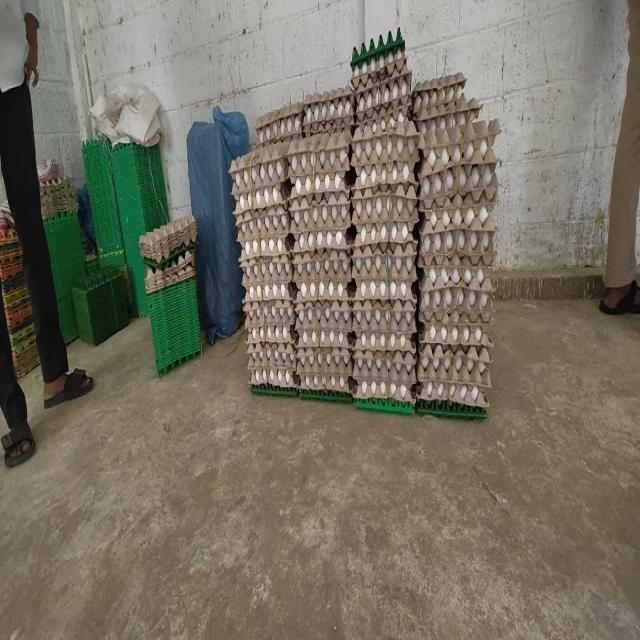egg_tray: (230, 144, 296, 386), (290, 134, 352, 391), (418, 195, 494, 332), (418, 196, 494, 320), (288, 132, 350, 251), (352, 187, 417, 298), (420, 120, 499, 209), (418, 311, 492, 405), (353, 299, 416, 400), (353, 301, 416, 400), (352, 209, 417, 299), (418, 195, 494, 267), (352, 222, 417, 306), (294, 250, 351, 345), (419, 194, 494, 263), (420, 139, 496, 207), (352, 32, 410, 121), (296, 300, 352, 391), (296, 301, 352, 390), (288, 132, 350, 208), (243, 298, 296, 386), (244, 300, 297, 385), (241, 260, 295, 343), (352, 279, 416, 349), (419, 120, 500, 175), (352, 123, 419, 189), (234, 185, 290, 263), (230, 143, 289, 217), (419, 264, 494, 321), (243, 262, 295, 343), (290, 191, 350, 261), (234, 194, 292, 265), (291, 194, 352, 261), (412, 73, 480, 133), (239, 236, 294, 308), (352, 301, 416, 361), (239, 235, 294, 301), (353, 345, 416, 402), (287, 131, 352, 183), (356, 60, 411, 121), (229, 143, 288, 199), (417, 344, 490, 388), (417, 365, 490, 407), (293, 250, 352, 301), (352, 121, 418, 166), (239, 246, 293, 301), (294, 252, 350, 305), (352, 36, 406, 90), (420, 195, 494, 234), (353, 343, 416, 387), (352, 185, 418, 227), (351, 243, 416, 285), (139, 216, 197, 263), (296, 300, 352, 347), (296, 327, 352, 374), (418, 311, 490, 347), (296, 305, 352, 351), (290, 191, 351, 233), (413, 96, 480, 134), (302, 86, 354, 134), (296, 349, 352, 393), (354, 325, 416, 361), (243, 302, 296, 344), (354, 218, 417, 253), (412, 73, 466, 113), (248, 344, 298, 387), (418, 246, 494, 274), (352, 300, 416, 333), (248, 344, 297, 387), (236, 205, 290, 244), (353, 371, 416, 404), (145, 251, 194, 293), (417, 379, 488, 407), (256, 102, 302, 144), (234, 183, 288, 218), (352, 161, 416, 190), (355, 275, 416, 305), (356, 97, 410, 130), (290, 169, 349, 199), (239, 235, 291, 266), (296, 272, 349, 302), (306, 102, 354, 135), (356, 96, 410, 125), (248, 340, 296, 372), (242, 260, 294, 289), (40, 177, 77, 217), (292, 229, 350, 254), (248, 343, 296, 373), (358, 108, 410, 134), (145, 266, 194, 293), (307, 107, 354, 135), (244, 279, 295, 302), (298, 372, 352, 393), (249, 367, 298, 387), (249, 366, 298, 385), (40, 177, 75, 199), (252, 325, 281, 333), (397, 289, 410, 298), (302, 361, 316, 369), (316, 177, 324, 190), (372, 389, 385, 396), (452, 328, 460, 338), (445, 242, 456, 249), (278, 376, 290, 382), (389, 289, 396, 298), (306, 183, 312, 191), (332, 308, 347, 311), (478, 139, 485, 145), (284, 378, 290, 385), (362, 45, 367, 52), (473, 180, 478, 186), (317, 361, 321, 368), (436, 245, 440, 251), (360, 295, 368, 298), (259, 261, 264, 265), (278, 378, 282, 383), (296, 189, 300, 194), (354, 49, 357, 55), (454, 128, 458, 131), (440, 327, 444, 330), (444, 327, 448, 330), (374, 388, 376, 393), (403, 209, 406, 212), (382, 254, 384, 258), (442, 130, 445, 132), (245, 308, 247, 311), (325, 187, 328, 189), (303, 282, 305, 284), (328, 368, 330, 369), (355, 375, 357, 376), (361, 344, 362, 345), (245, 272, 245, 274), (348, 104, 348, 105), (263, 238, 263, 240), (432, 336, 432, 336), (250, 297, 250, 298), (288, 381, 288, 382), (492, 236, 492, 240), (361, 292, 363, 292), (365, 391, 365, 392)
